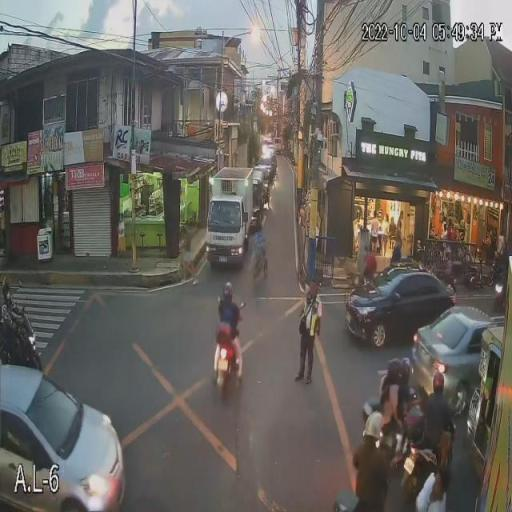helmet: (385, 356, 403, 382), (400, 356, 415, 382), (432, 372, 448, 394), (219, 282, 234, 303)
motorcycle: (214, 334, 237, 401), (398, 443, 426, 494)
rider: (423, 394, 451, 462), (395, 380, 415, 431), (376, 381, 398, 426), (218, 301, 240, 339)
